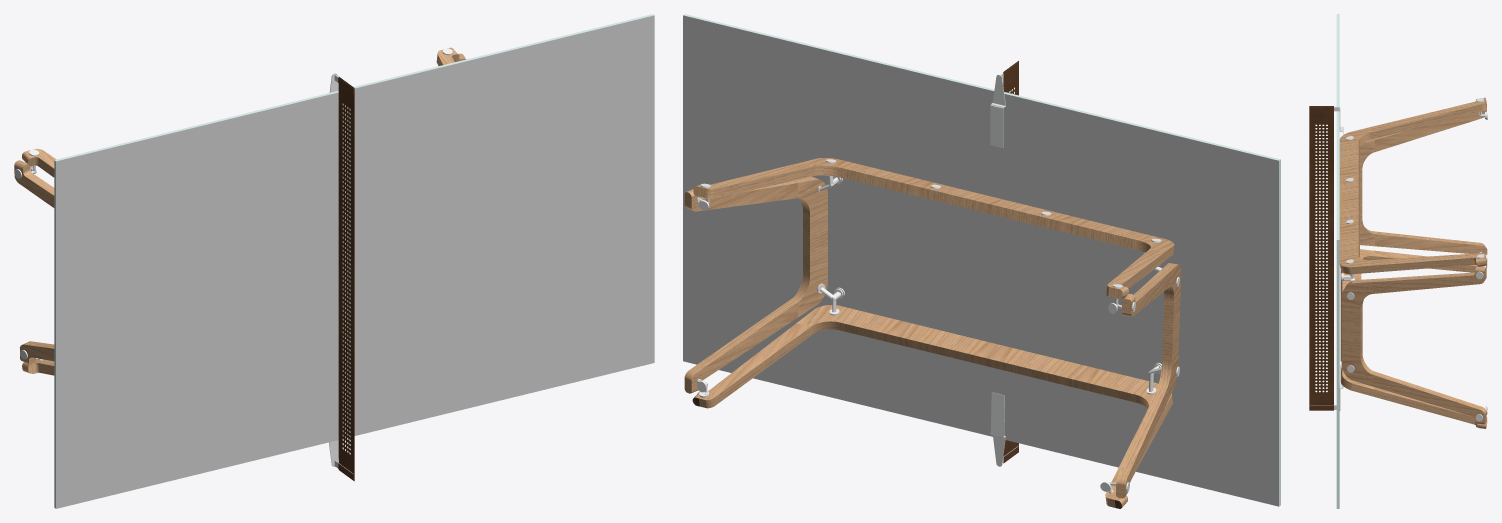
The model's file is citrino-pingpong.glb.
The picture shows the model from 3 angles, left to right: view 1: azimuth 30°, elevation 25°; view 2: azimuth 150°, elevation 25°; view 3: azimuth 270°, elevation 25°; orthographic projection. The views are drawn at different scales.
Visible parts, largest first — view 1: ID982, ID1093, ID966, ID598; view 2: ID990, ID46, ID411, ID81, ID400, ID307, ID291, ID609, ID966, ID598, ID1093; view 3: ID1093, ID411, ID400, ID307, ID291, ID966, ID609, ID598, ID46, ID81.
Part boxes in pixels (x1,y1,x2,y2): ID982: [56, 15, 654, 508]; ID1093: [338, 76, 354, 481]; ID966: [54, 14, 654, 508]; ID598: [14, 160, 54, 207]; ID990: [683, 15, 1278, 506]; ID46: [694, 305, 999, 408]; ID411: [693, 158, 1001, 213]; ID81: [988, 345, 1172, 507]; ID400: [989, 199, 1174, 299]; ID307: [684, 238, 827, 393]; ID291: [684, 176, 827, 244]; ID609: [1116, 321, 1179, 498]; ID966: [683, 14, 1280, 506]; ID598: [1122, 263, 1181, 330]; ID1093: [1003, 61, 1018, 463]; ID1093: [1309, 106, 1333, 410]; ID411: [1339, 198, 1486, 274]; ID400: [1339, 97, 1486, 204]; ID307: [1341, 330, 1486, 424]; ID291: [1341, 266, 1486, 332]; ID966: [1336, 14, 1339, 508]; ID609: [1360, 194, 1487, 254]; ID598: [1360, 109, 1486, 194]; ID46: [1340, 317, 1487, 428]; ID81: [1340, 249, 1487, 319].
Bounding box in the file's own units: 108 × 67.76 × 35.91.
7 materials, 4 textured.
